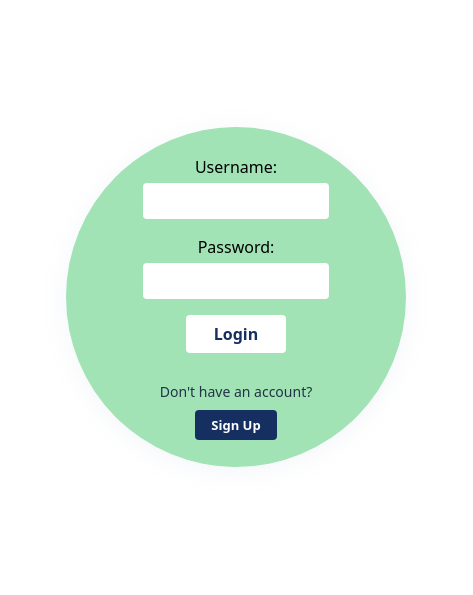
App Component › View Switching › should switch from sign-up back to login view
This screenshot has width=473, height=595.
Click the button "Sign Up" at [236, 424], box [195,410,277,440]
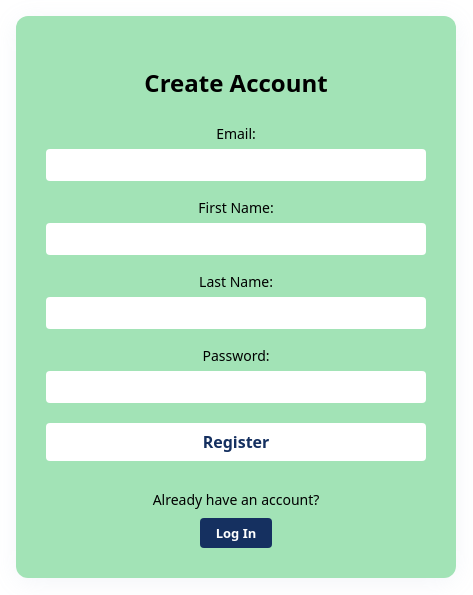
Click the button "Log In" at [236, 534], box [200,518,272,548]
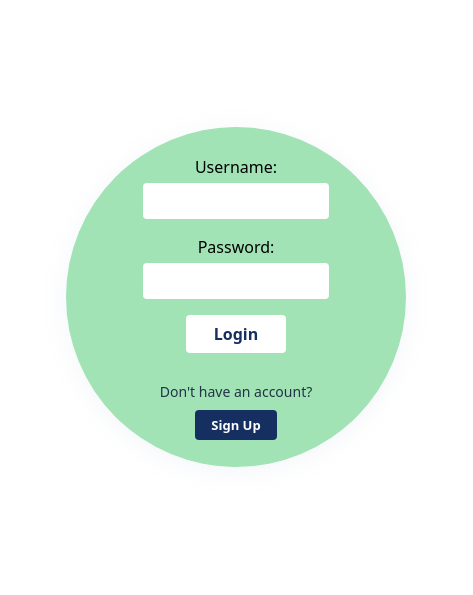
Expected: the text "Password:" is shown, [198,236,274,258]
Expected: the text "Username:" is shown, [195,156,277,178]
Expected: the heading "Create Account" is gone
